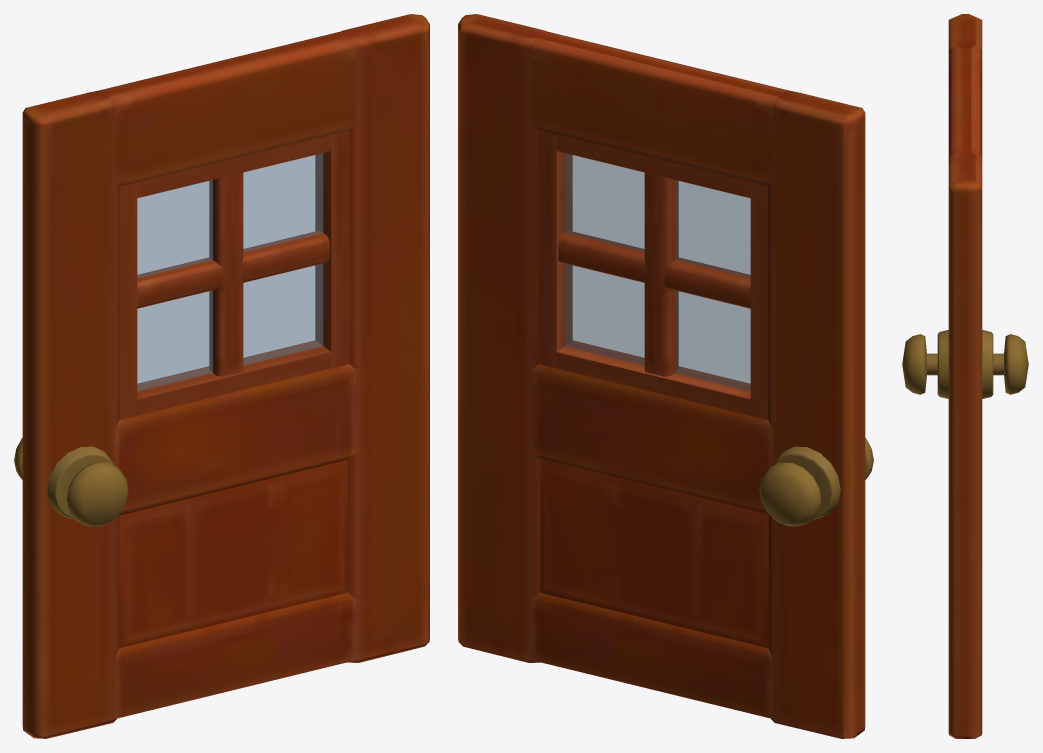
The model's file is door-window-s.glb.
3 views of the same model, side by side, from view 1: azimuth 30°, elevation 25°; view 2: azimuth 150°, elevation 25°; view 3: azimuth 270°, elevation 25° (orthographic). The views are drawn at different scales.
Bounding box in the file's own units: 12 × 18 × 3.74.
Materials: 2 (1 with a texture image).
